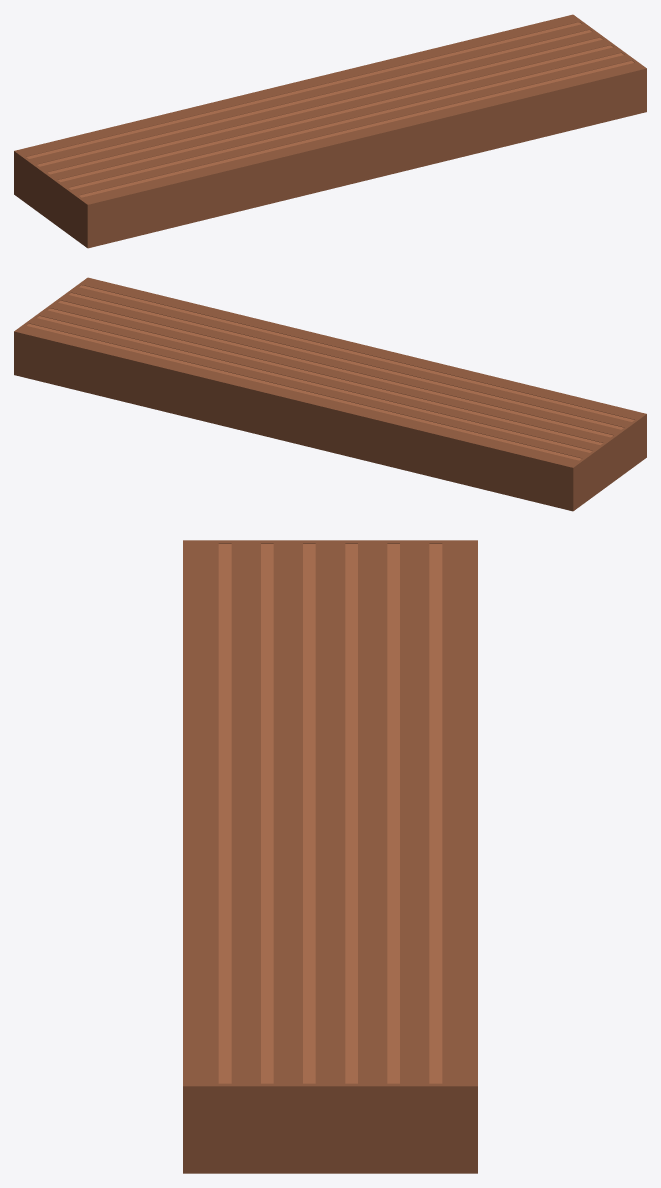
File: masa_ust.fbx
The picture shows the model from 3 angles, top to bottom: view 1: azimuth 30°, elevation 25°; view 2: azimuth 150°, elevation 25°; view 3: azimuth 270°, elevation 25°; orthographic projection. The views are drawn at different scales.
Visible parts, largest first — view 1: masa_üst; view 2: masa_üst; view 3: masa_üst.
Boxes of the visible parts, left/top/right/bottom form: masa_üst: left=14, top=14, right=646, bottom=248; masa_üst: left=14, top=277, right=646, bottom=511; masa_üst: left=183, top=540, right=477, bottom=1173.
Size of the model in its own units: 238 by 17.69 by 54.26.
Materials: 1 (1 with a texture image).
